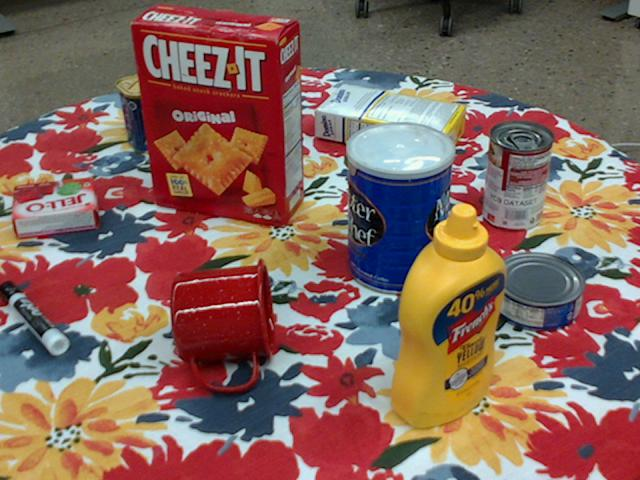cracker_box: (131, 4, 304, 221)
gelatin_box: (13, 177, 99, 239)
large_marker: (0, 279, 67, 354)
master_chef_can: (346, 122, 454, 296)
mug: (170, 258, 274, 392)
mustard_bottle: (390, 203, 504, 428)
potted_meat_can: (115, 64, 202, 152)
sugar_box: (314, 82, 467, 163)
tomato_soup_can: (482, 120, 553, 231)
tuna_fish_can: (491, 253, 584, 332)
